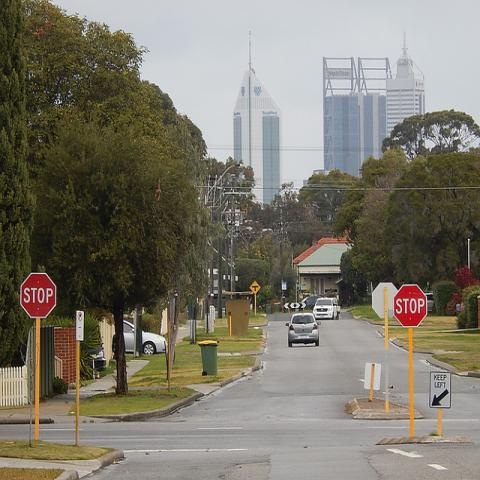car: (122, 320, 166, 356), (286, 312, 322, 348), (312, 297, 340, 320), (302, 296, 320, 310)
